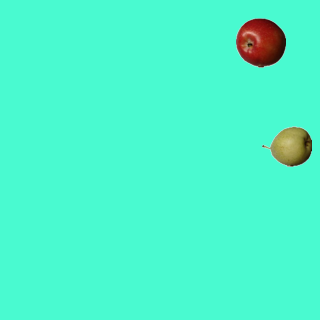Apple Braeburn: (235, 17, 285, 67)
Pear: (261, 121, 311, 171)
